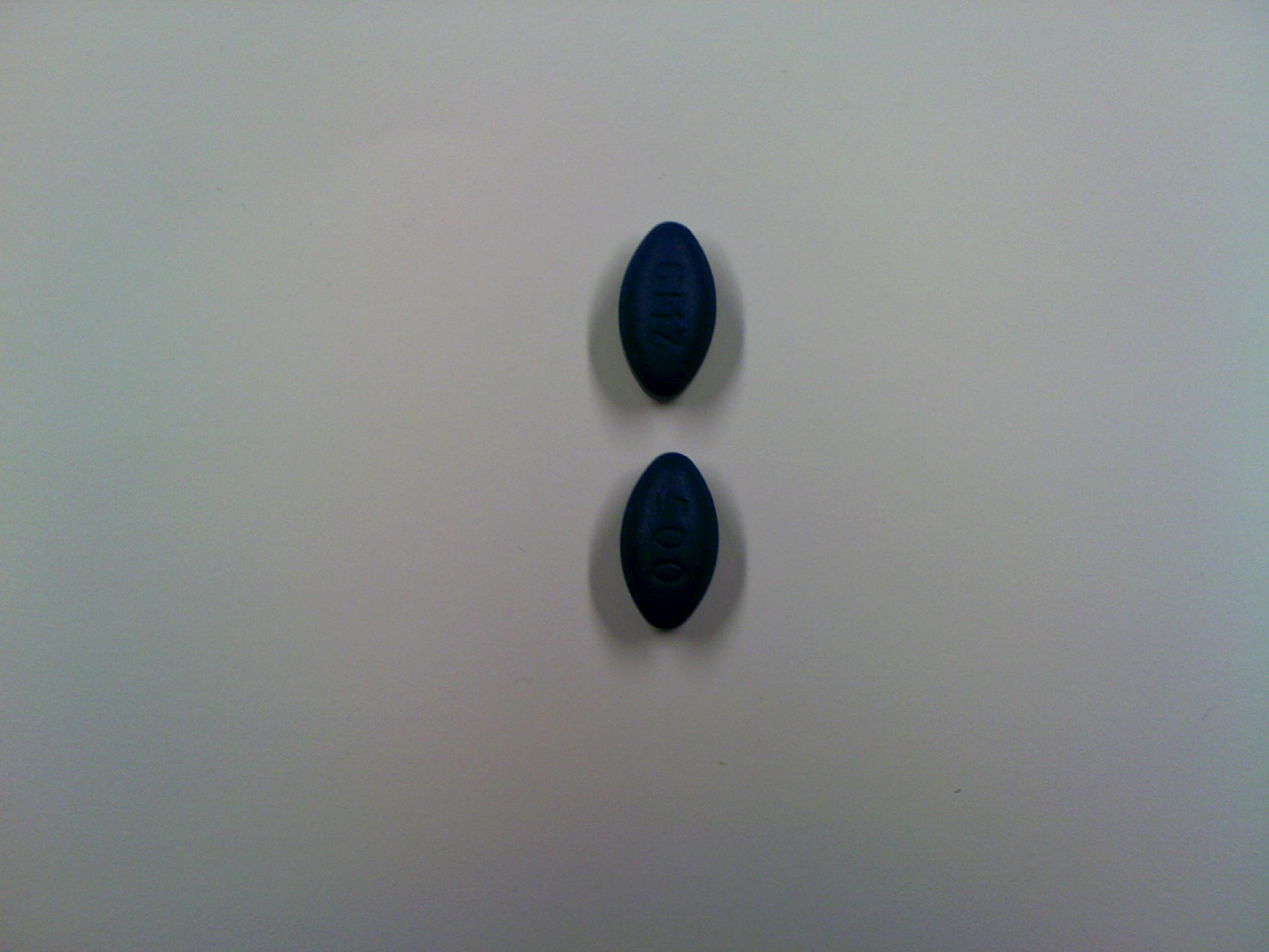Pill: (612, 446, 729, 642), (612, 215, 723, 411)
